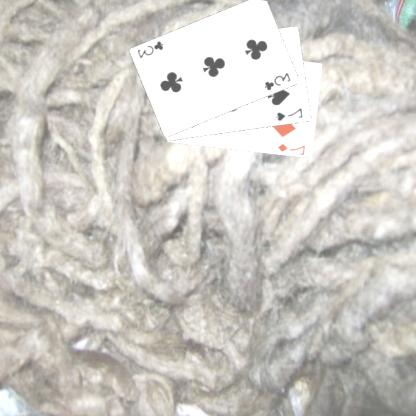3C: (263, 69, 294, 92), (136, 38, 167, 60)
7D: (276, 140, 308, 156)
7S: (274, 105, 306, 122)
